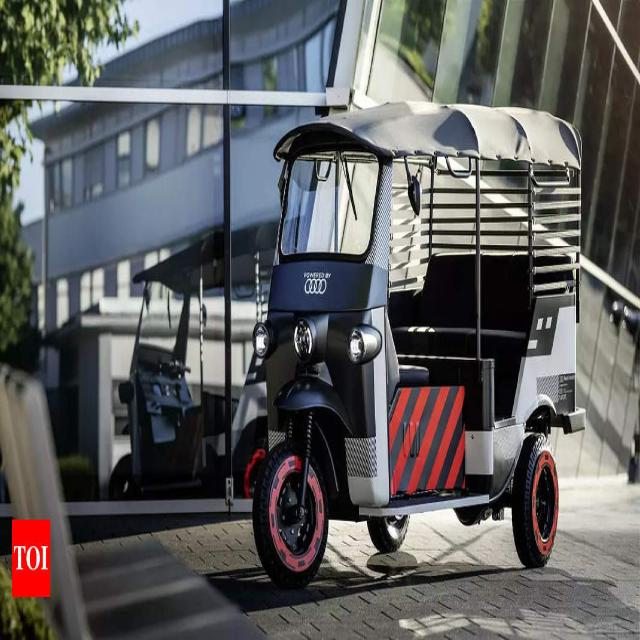autorickshaw: (252, 101, 585, 587), (109, 106, 276, 508)
